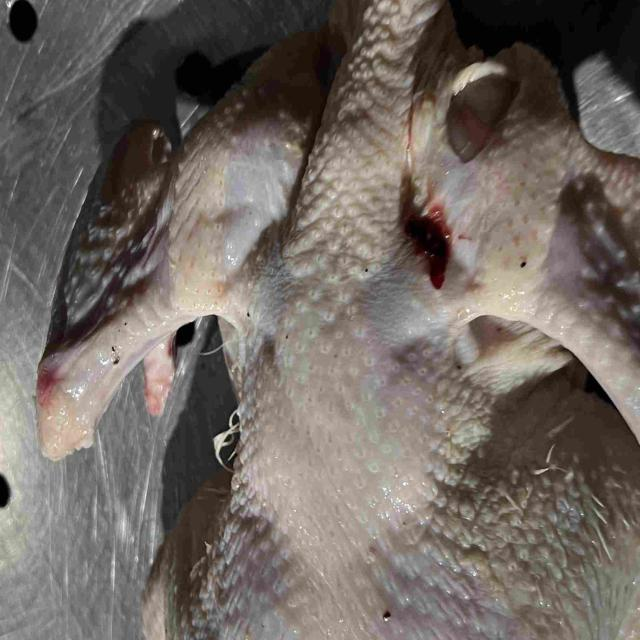back: (205, 262, 521, 640)
leg: (499, 391, 640, 640)
neck: (307, 0, 433, 253)
wing: (40, 38, 315, 455), (458, 52, 640, 443)
